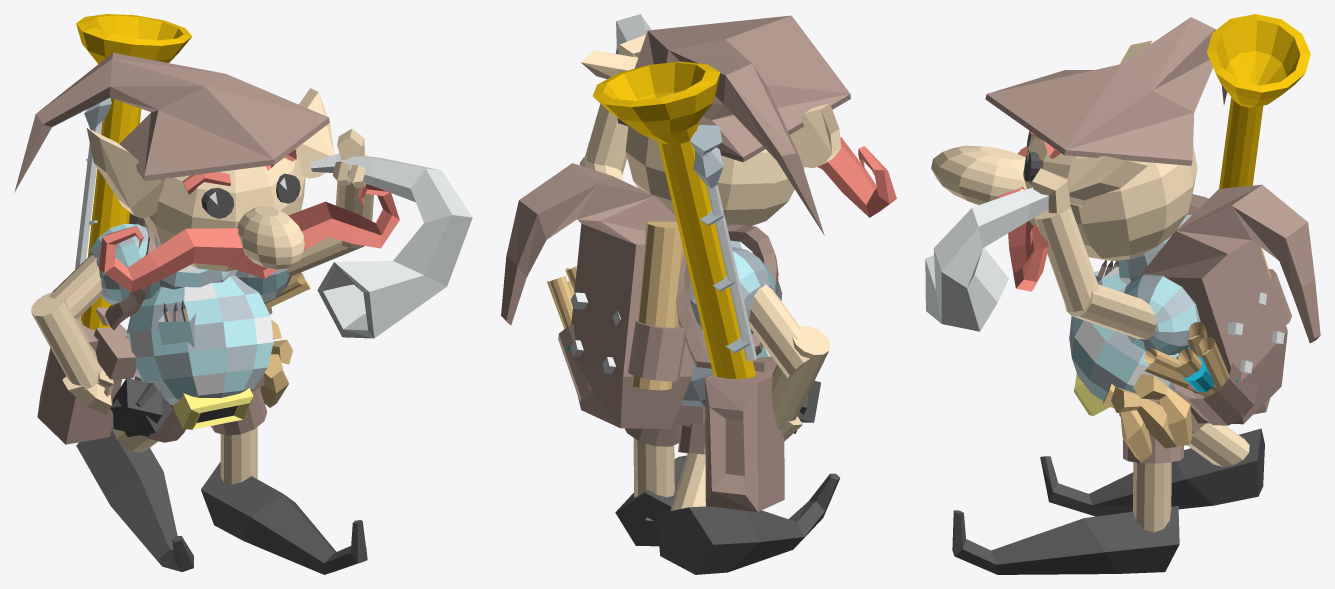
File: elf.glb
3 views of the same model, side by side, from view 1: azimuth 30°, elevation 25°; view 2: azimuth 150°, elevation 25°; view 3: azimuth 270°, elevation 25° (orthographic). The views are drawn at different scales.
Parts seen in each view (by area): view 1: group31073426; view 2: group31073426; view 3: group31073426.
Boxes of the visible parts, x1=… form: group31073426: x1=14, y1=14, x2=472, y2=574; group31073426: x1=501, y1=14, x2=896, y2=574; group31073426: x1=925, y1=14, x2=1320, y2=574.
Bounding box in the file's own units: 0.6955 × 0.9949 × 0.7134.
